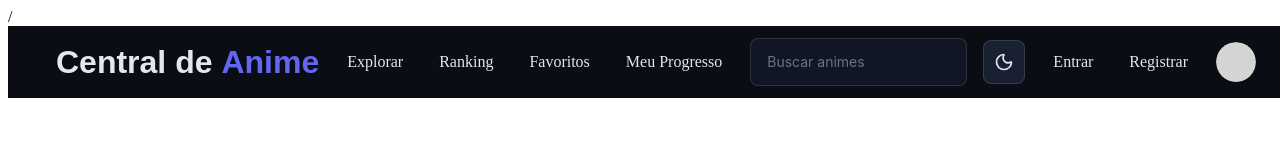
Scenario: Header accessibility e tema › persiste a preferência de tema e restaura no próximo carregamento
Later steps or results of the test are not shown.
Click the button named "Ativar tema claro": coordinates (1004, 62) x1=983 y1=40 x2=1025 y2=84
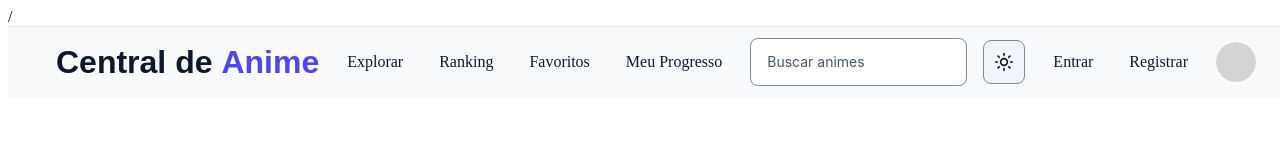
Expected: the button named "Ativar tema escuro" is shown, x1=983 y1=40 x2=1025 y2=84
